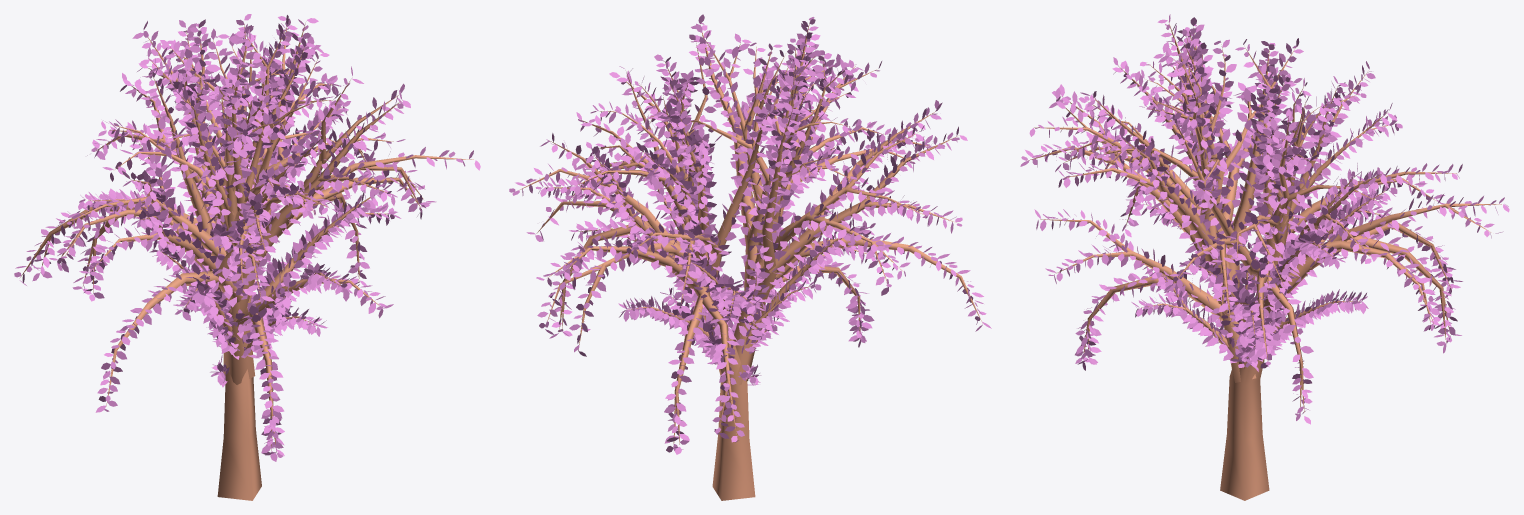
File: cherry_02_lod1.fbx
3 views of the same model, side by side, from view 1: azimuth 30°, elevation 25°; view 2: azimuth 150°, elevation 25°; view 3: azimuth 270°, elevation 25° (orthographic). The views are drawn at different scales.
Parts seen in each view (by area): view 1: cherry_02_lod1; view 2: cherry_02_lod1; view 3: cherry_02_lod1.
Boxes of the visible parts, x1,y1,x2,y2 form: cherry_02_lod1: (14, 14, 480, 500); cherry_02_lod1: (509, 14, 991, 500); cherry_02_lod1: (1020, 14, 1509, 500).
Size of the model in its own units: 485 by 536 by 522.
